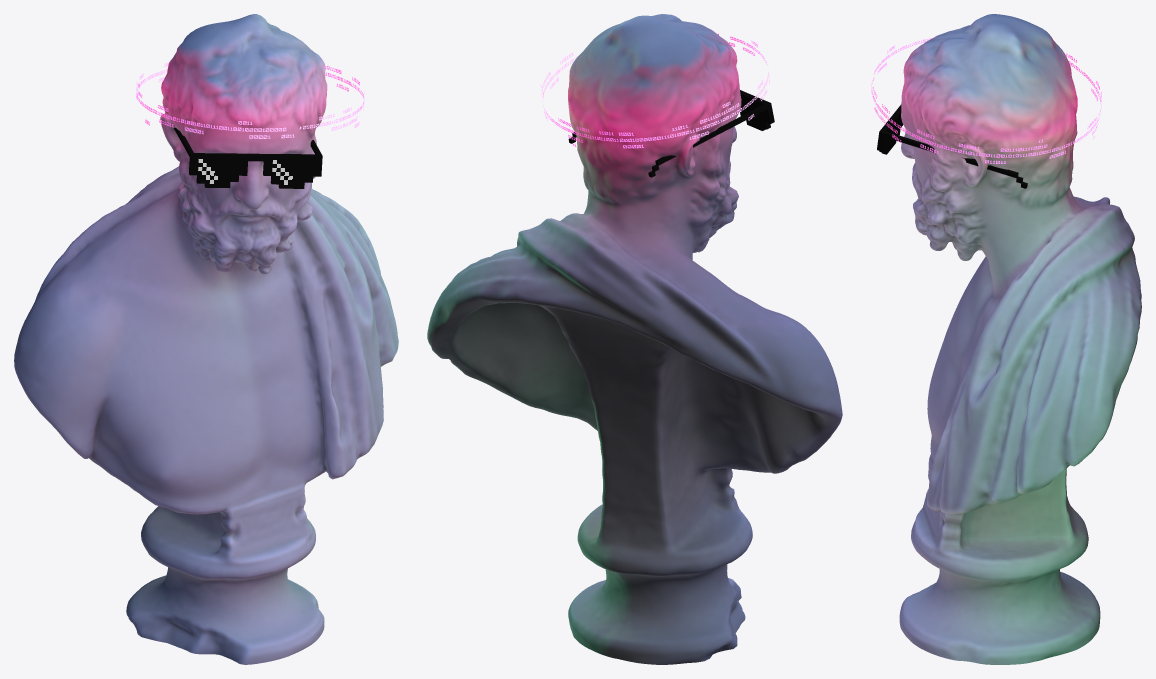
The model's file is alterado.glb.
The picture shows the model from 3 angles, left to right: view 1: azimuth 30°, elevation 25°; view 2: azimuth 150°, elevation 25°; view 3: azimuth 270°, elevation 25°; orthographic projection.
Visible parts, largest first — view 1: mentor roman retopo, nimbus.001, cube_7, cube_2, nimbus.002; view 2: mentor roman retopo, nimbus.001, nimbus.002, cube_10; view 3: mentor roman retopo, nimbus.001, nimbus.002, cube_11.
Part boxes in pixels (<box>): mentor roman retopo: <box>14,14,398,664</box>; nimbus.001: <box>136,69,364,131</box>; cube_7: <box>204,153,231,188</box>; cube_2: <box>278,154,305,188</box>; nimbus.002: <box>136,62,364,138</box>; mentor roman retopo: <box>427,14,842,664</box>; nimbus.001: <box>542,33,768,141</box>; nimbus.002: <box>541,40,769,148</box>; cube_10: <box>655,104,767,165</box>; mentor roman retopo: <box>899,14,1141,664</box>; nimbus.001: <box>871,38,1101,157</box>; nimbus.002: <box>872,45,1101,163</box>; cube_11: <box>884,131,1018,178</box>.
Size of the model in its own units: 3.59 by 5.42 by 2.19.
3 materials, 2 textured.
